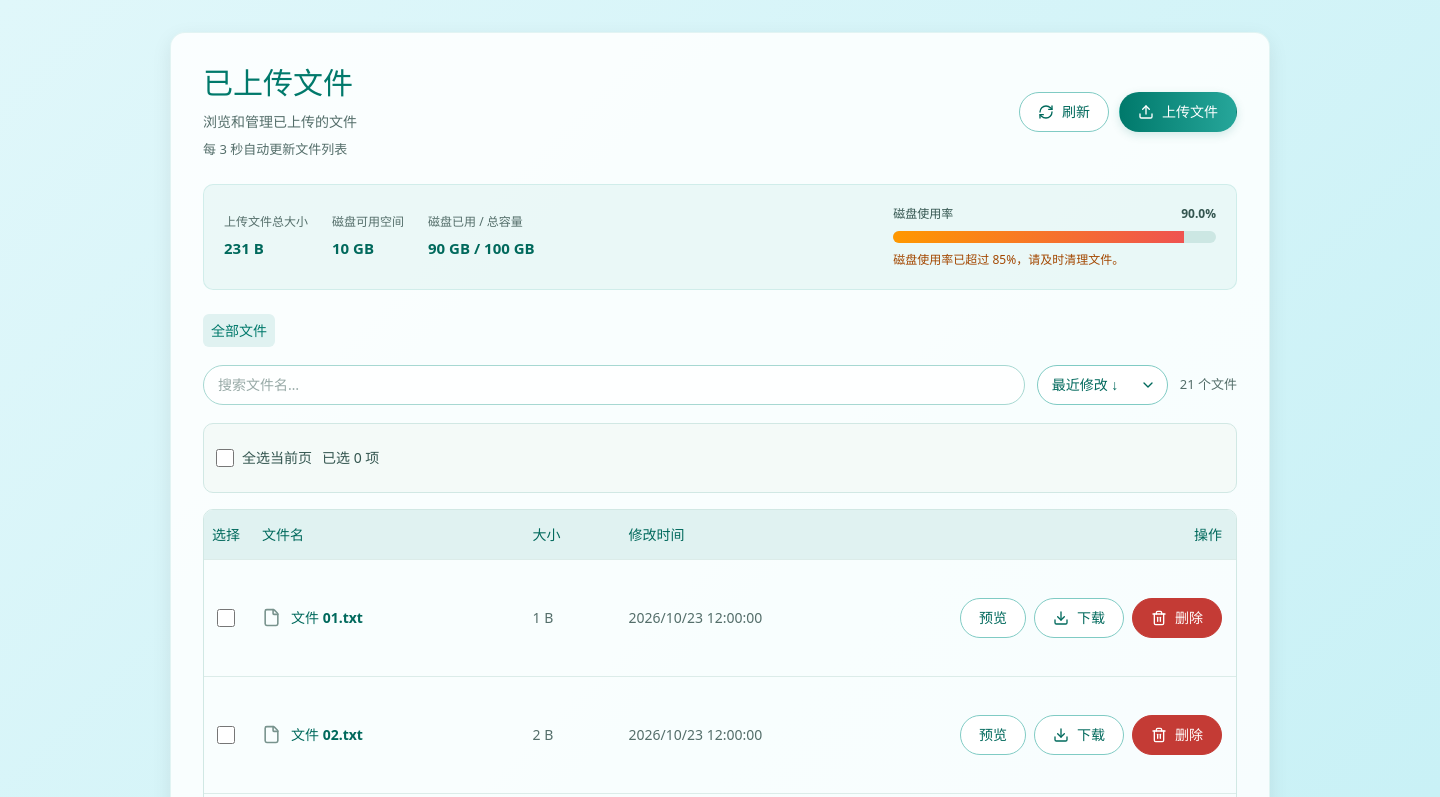
Scenario: shows long deletion progress, allows stopping, and resyncs partial changes
This screenshot has width=1440, height=797.
Click the button with aria-label "删除 文件 01.txt".
click(1177, 618)  # box top-left (1132, 598), bottom-right (1222, 638)
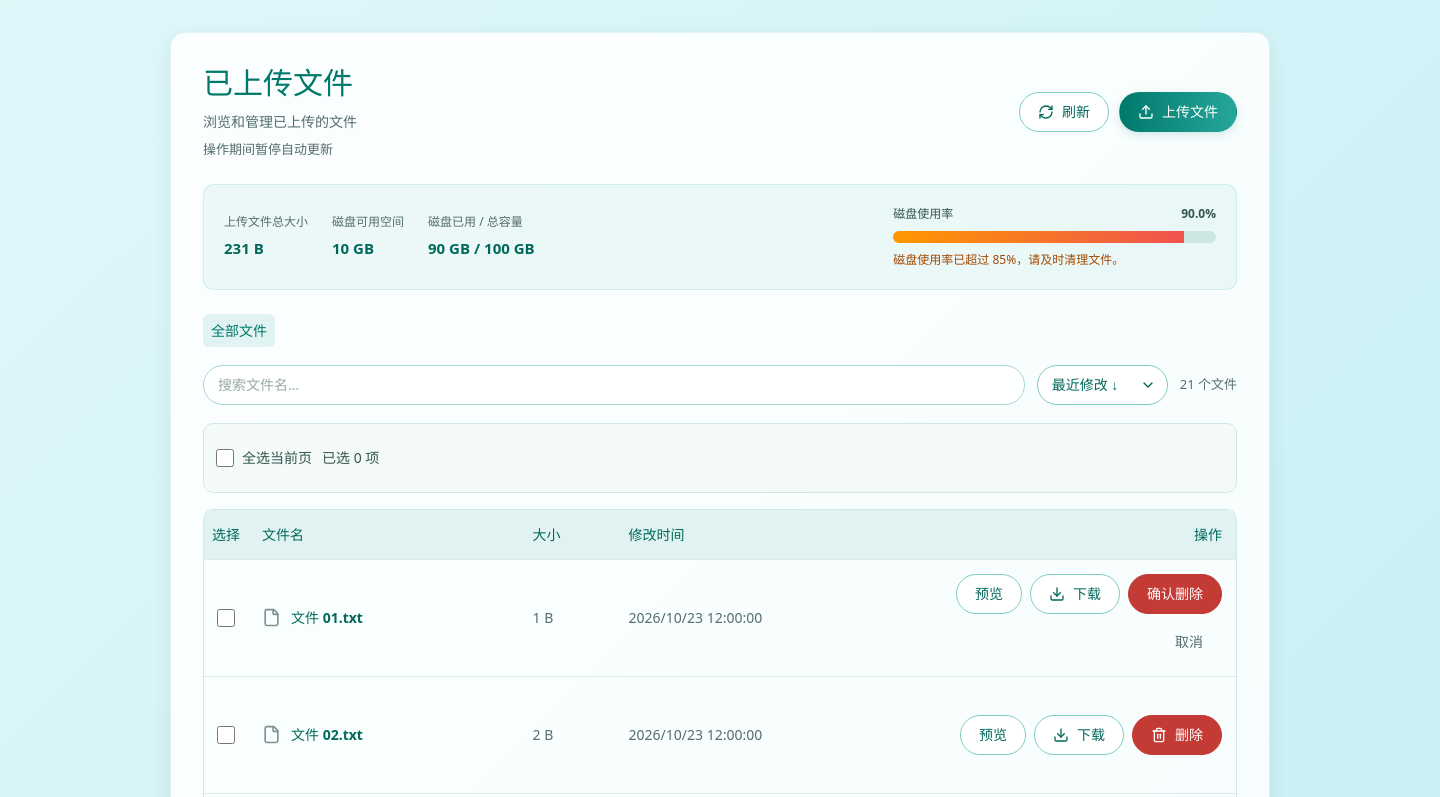
Click the button with aria-label "确认删除 文件 01.txt".
click(1175, 594)  # box top-left (1128, 574), bottom-right (1222, 614)
Wait 31000 ms
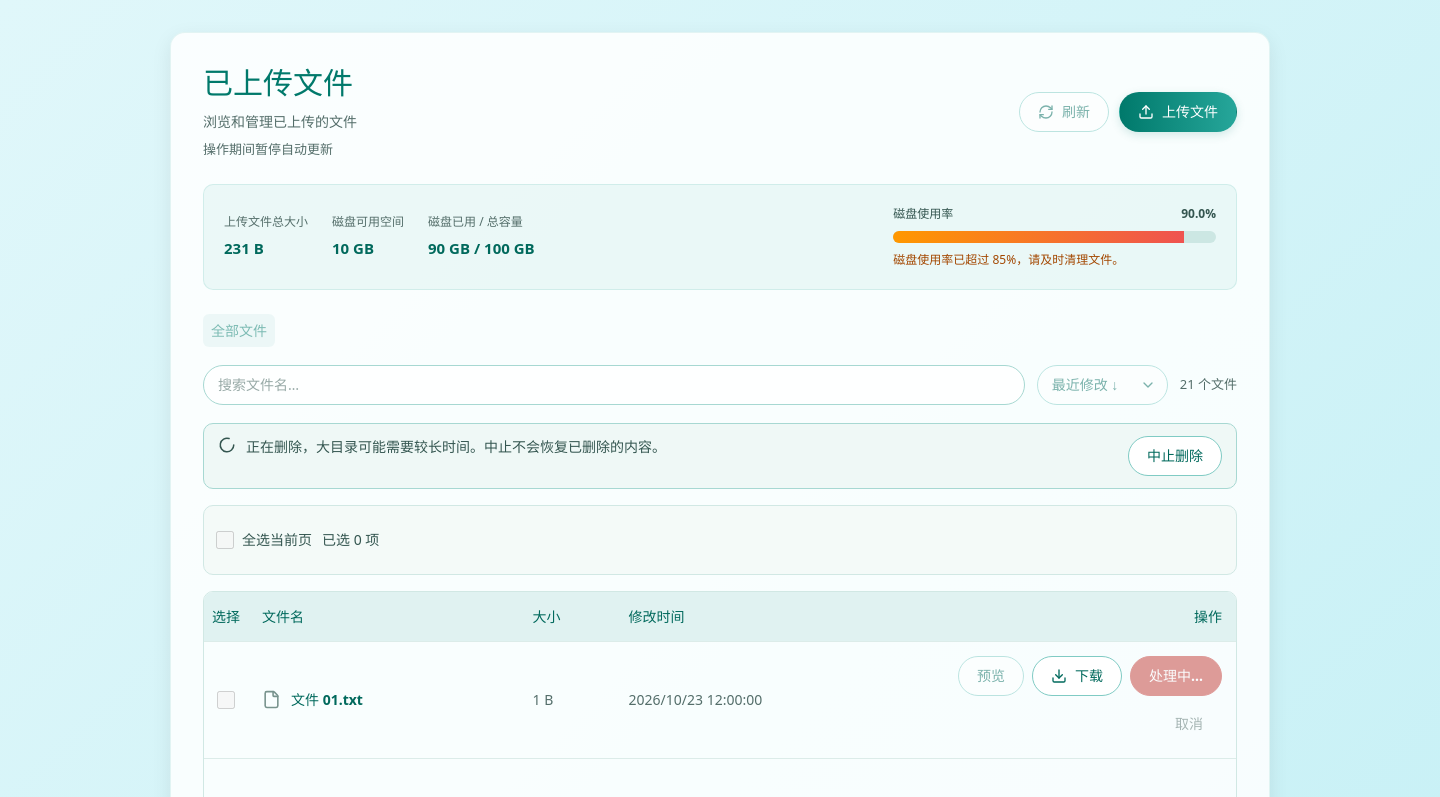
expect the text "正在删除，大目录可能需要较长时间。中止不会恢复已删除的内容。" is shown: met, box top-left (246, 436), bottom-right (666, 456)
Click the button "中止删除".
click(1175, 456)  # box top-left (1128, 436), bottom-right (1222, 476)
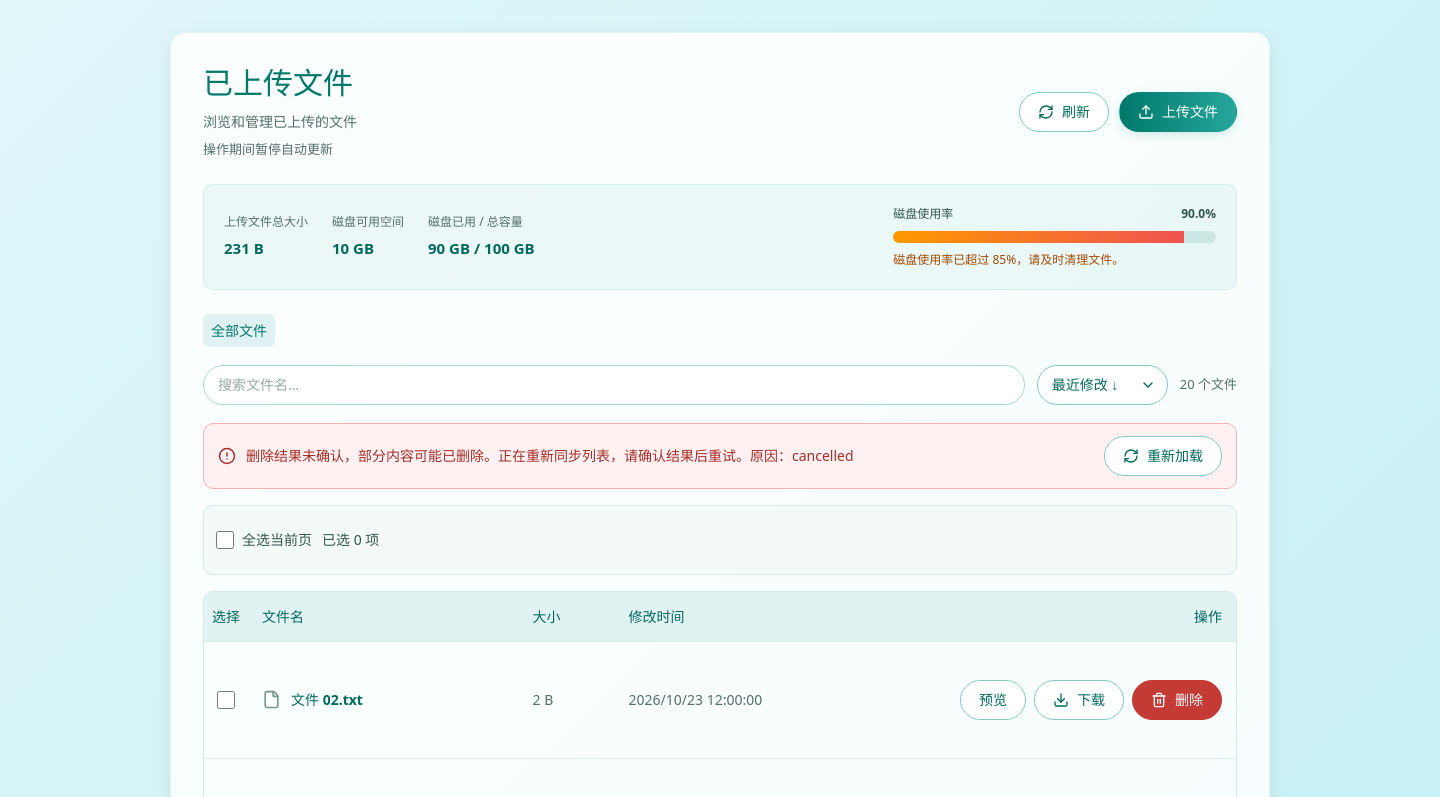
expect the message "删除结果未确认，部分内容可能已删除。正在重新同步列表，请确认结果后重试。原因：cancelled 重新加载" is shown: met, box top-left (203, 422), bottom-right (1237, 488)
expect the text "文件 01.txt" is gone: met
expect the button "中止删除" is gone: met
